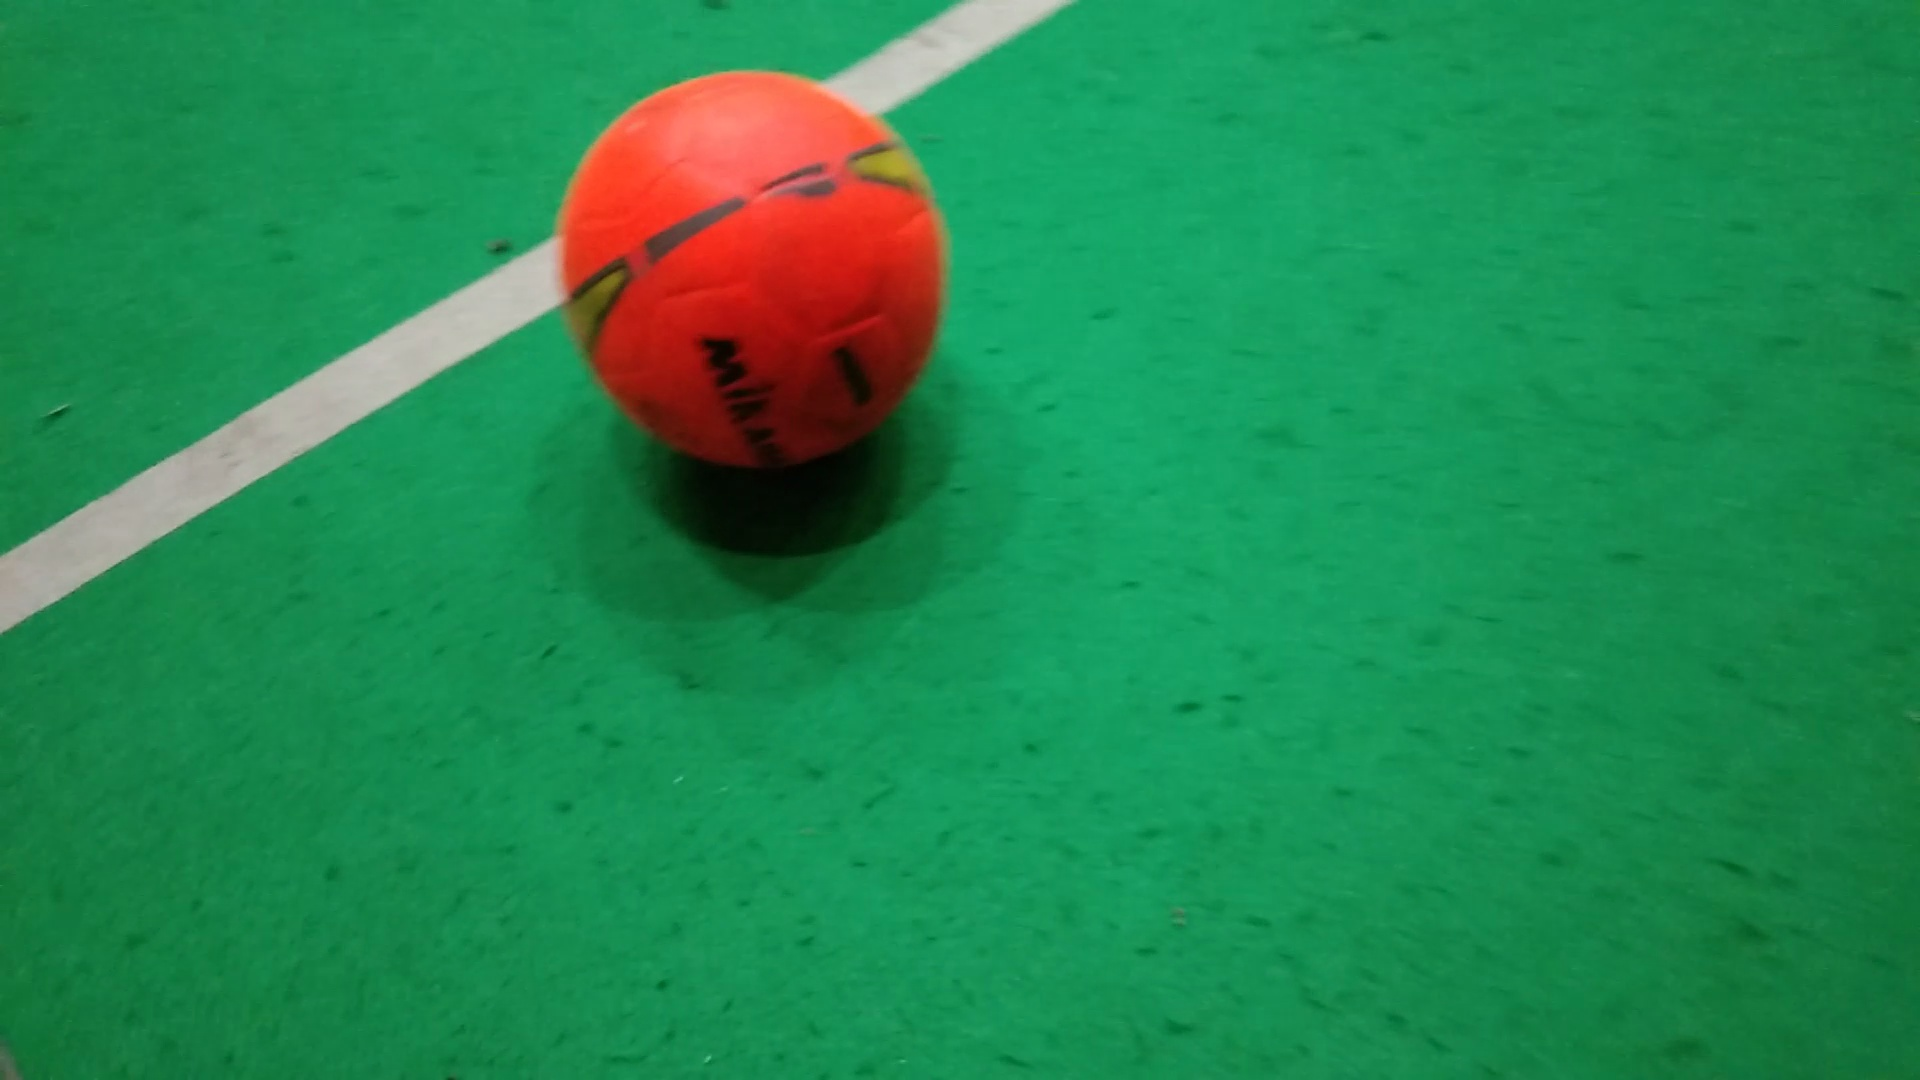bola: (553, 63, 953, 481)
